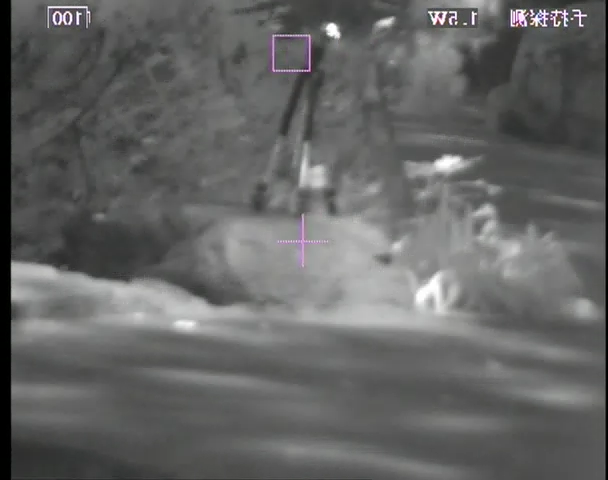my: (323, 23, 340, 39)
